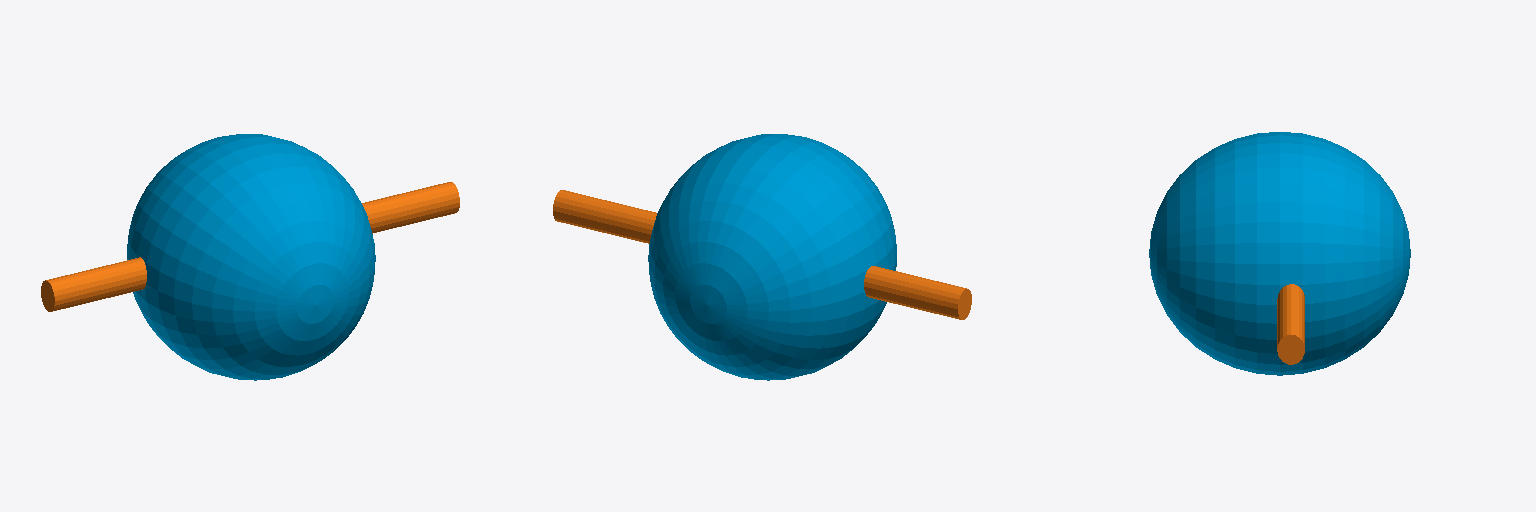
The model's file is Solid Sphereabout DIameter.obj.
3 views of the same model, side by side, from view 1: azimuth 30°, elevation 25°; view 2: azimuth 150°, elevation 25°; view 3: azimuth 270°, elevation 25° (orthographic).
Parts seen in each view (by area): view 1: obj_0; view 2: obj_0; view 3: obj_0.
Boxes of the visible parts, x1,y1,x2,y2 form: obj_0: [41, 134, 459, 380]; obj_0: [553, 134, 971, 380]; obj_0: [1149, 132, 1410, 375].
Size of the model in its own units: 84 by 44 by 47.